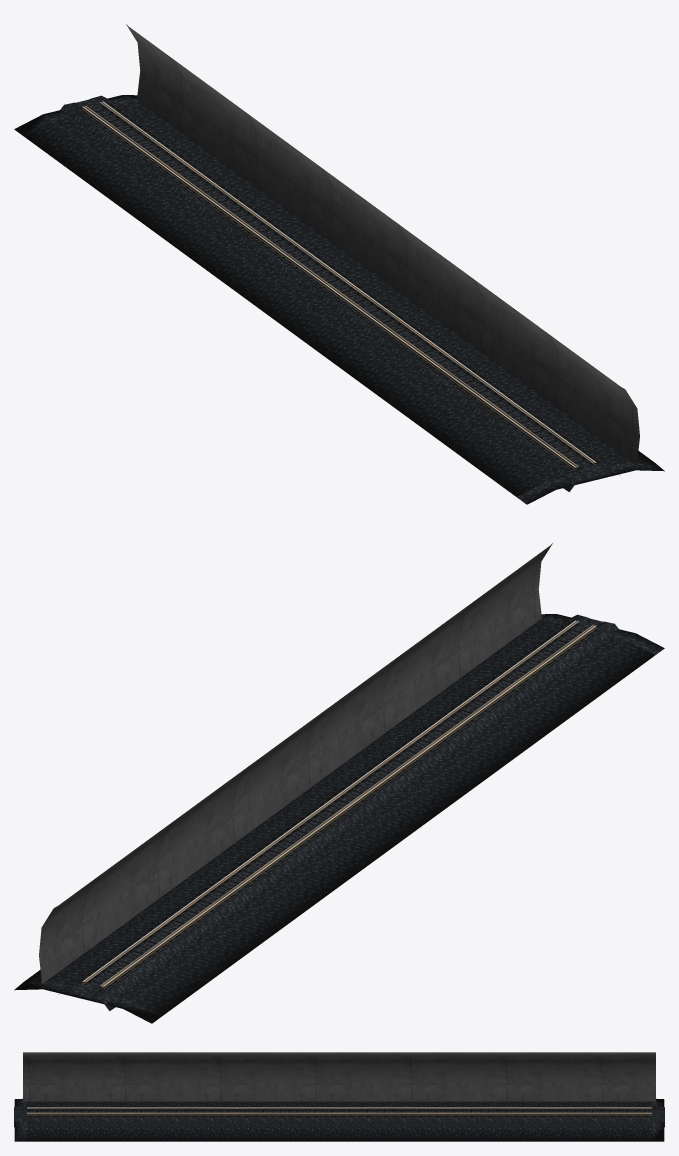
The model's file is SIN_1RAIL_150_TONNELE.glb.
3 views of the same model, one above another, from view 1: azimuth 30°, elevation 25°; view 2: azimuth 150°, elevation 25°; view 3: azimuth 270°, elevation 25° (orthographic). The views are drawn at different scales.
Visible parts, largest first — view 1: obj4, R000_RG_R3, R000_RG_L3; view 2: obj4, R000_RG_R3, R000_RG_L3; view 3: obj4, R000_RG_L3, R000_RG_R3.
Part boxes in pixels (x1,y1,x2,y2): obj4: (14,24,664,504); R000_RG_R3: (84,105,578,468); R000_RG_L3: (99,102,593,463); obj4: (14,543,664,1023); R000_RG_R3: (100,624,594,987); R000_RG_L3: (84,621,579,983); obj4: (14,1052,664,1141); R000_RG_L3: (27,1112,651,1113); R000_RG_R3: (27,1108,651,1108).
Bounding box in the file's own units: 24.42 × 17.31 × 156.
7 materials, 6 textured.
